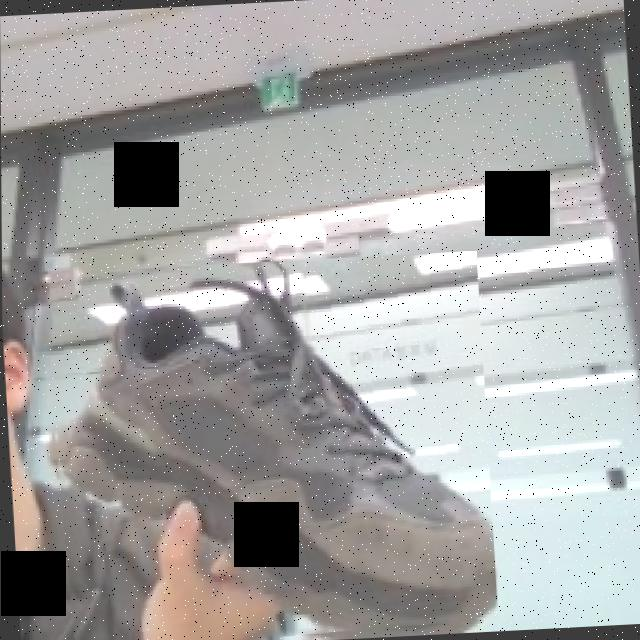shoe: (38, 251, 498, 640)
